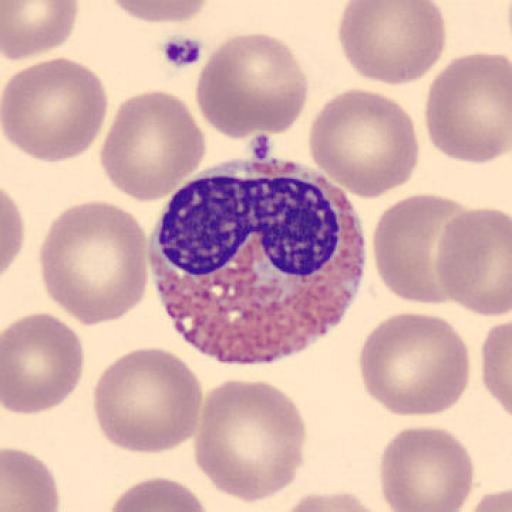RBC: (193, 377, 308, 505), (38, 198, 150, 328), (306, 87, 420, 201), (195, 31, 310, 141), (98, 89, 208, 204), (91, 346, 205, 456), (357, 310, 472, 418), (2, 55, 110, 165), (371, 191, 471, 307), (422, 51, 512, 165), (336, 0, 447, 87), (2, 310, 86, 416), (435, 205, 512, 318), (377, 424, 475, 512), (2, 0, 80, 63), (1, 444, 60, 512), (108, 475, 212, 512), (480, 316, 512, 419), (271, 489, 393, 512), (105, 0, 215, 24), (1, 186, 25, 282), (468, 486, 511, 512)
WBC: (148, 158, 367, 367)
